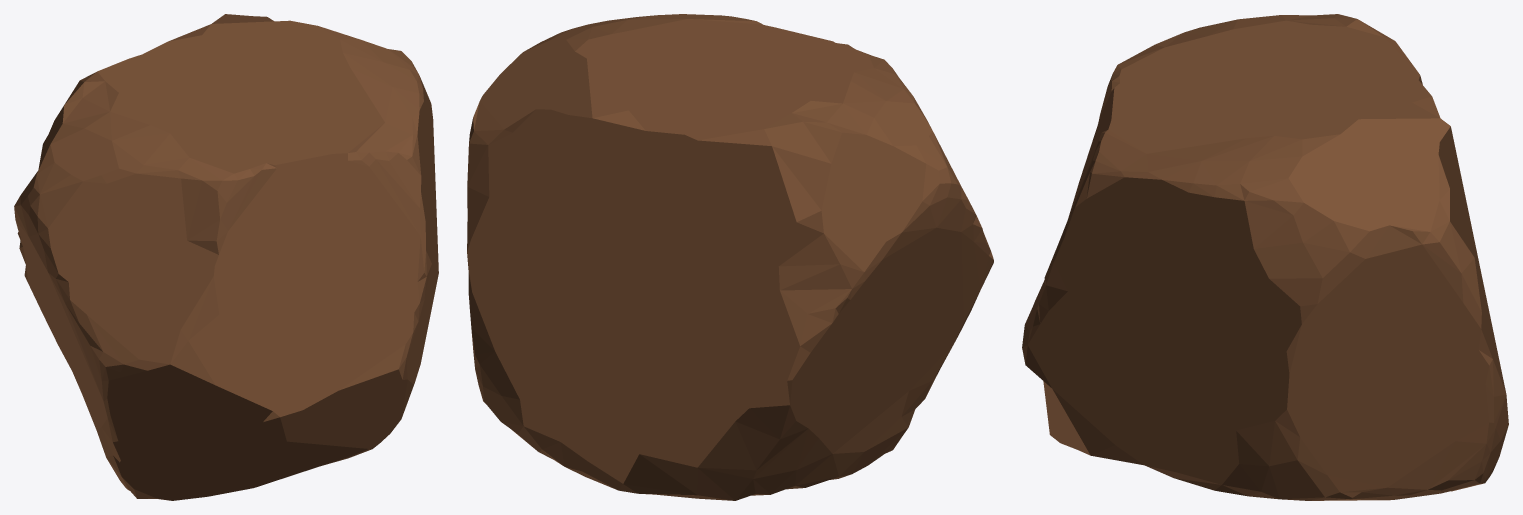
File: Rock2.fbx
3 views of the same model, side by side, from view 1: azimuth 30°, elevation 25°; view 2: azimuth 150°, elevation 25°; view 3: azimuth 270°, elevation 25° (orthographic). The views are drawn at different scales.
Parts seen in each view (by area): view 1: Rock2; view 2: Rock2; view 3: Rock2.
Part boxes in pixels (bbox=[...]): Rock2: bbox=[14, 14, 438, 500]; Rock2: bbox=[467, 14, 993, 500]; Rock2: bbox=[1022, 14, 1508, 500].
Bounding box in the file's own units: 377 × 329 × 343.
